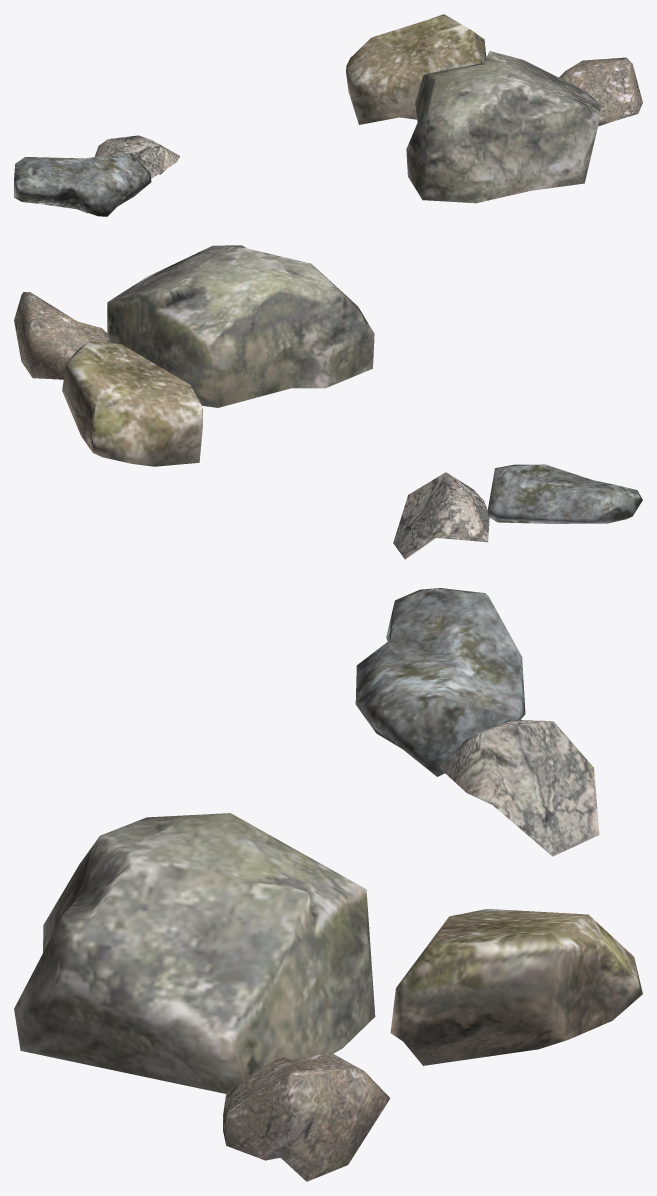
The model's file is proc_stones_05.FBX.
3 views of the same model, one above another, from view 1: azimuth 30°, elevation 25°; view 2: azimuth 150°, elevation 25°; view 3: azimuth 270°, elevation 25° (orthographic). The views are drawn at different scales.
Parts seen in each view (by area): view 1: proc_stones_05; view 2: proc_stones_05; view 3: proc_stones_05.
Boxes of the visible parts, <box> form: proc_stones_05: <box>14,14,642,216</box>; proc_stones_05: <box>14,245,642,559</box>; proc_stones_05: <box>14,588,642,1181</box>.
Bounding box in the file's own units: 0.5527 × 0.2822 × 0.105.
1 material, 1 textured.
